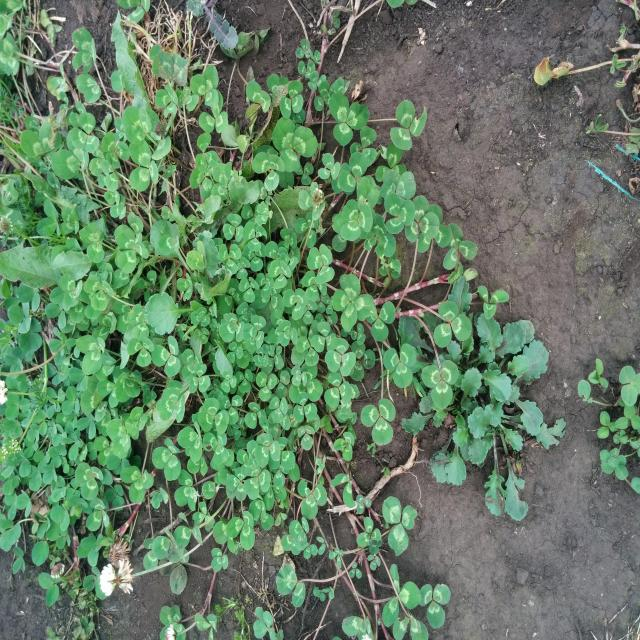Four Leaf Clover: (332, 273, 375, 332)
